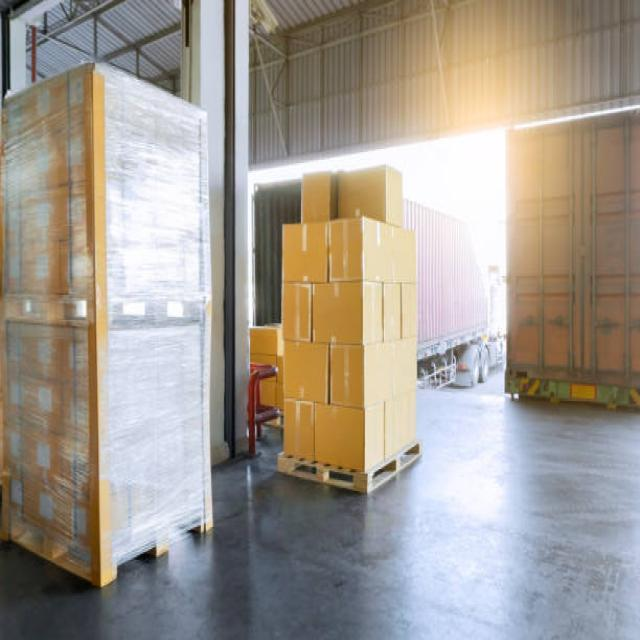Wooden-Pallets: (275, 434, 426, 509)
